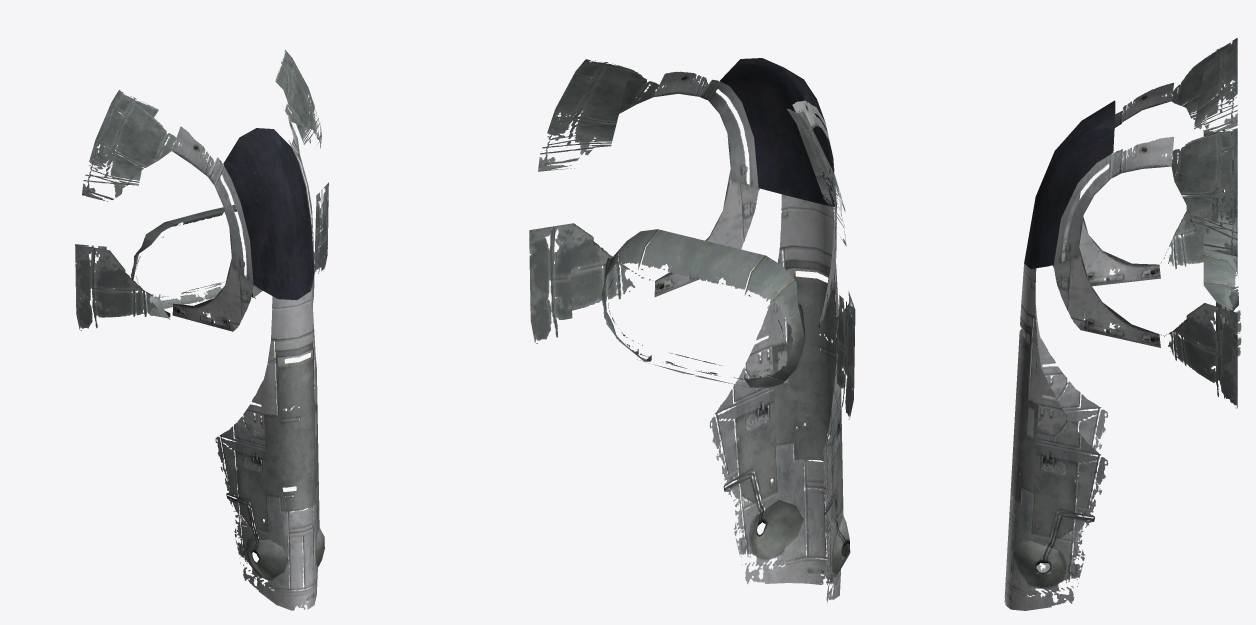
The model's file is kse_firespray_body_l1.fbx.
3 views of the same model, side by side, from view 1: azimuth 30°, elevation 25°; view 2: azimuth 150°, elevation 25°; view 3: azimuth 270°, elevation 25° (orthographic). The views are drawn at different scales.
Parts seen in each view (by area): view 1: mesh_node; view 2: mesh_node; view 3: mesh_node.
Part boxes in pixels (x1,y1,x2,y2): mesh_node: [75, 50, 328, 610]; mesh_node: [529, 58, 855, 603]; mesh_node: [1004, 38, 1241, 610].
Bounding box in the file's own units: 19.41 × 24.76 × 9.16.
